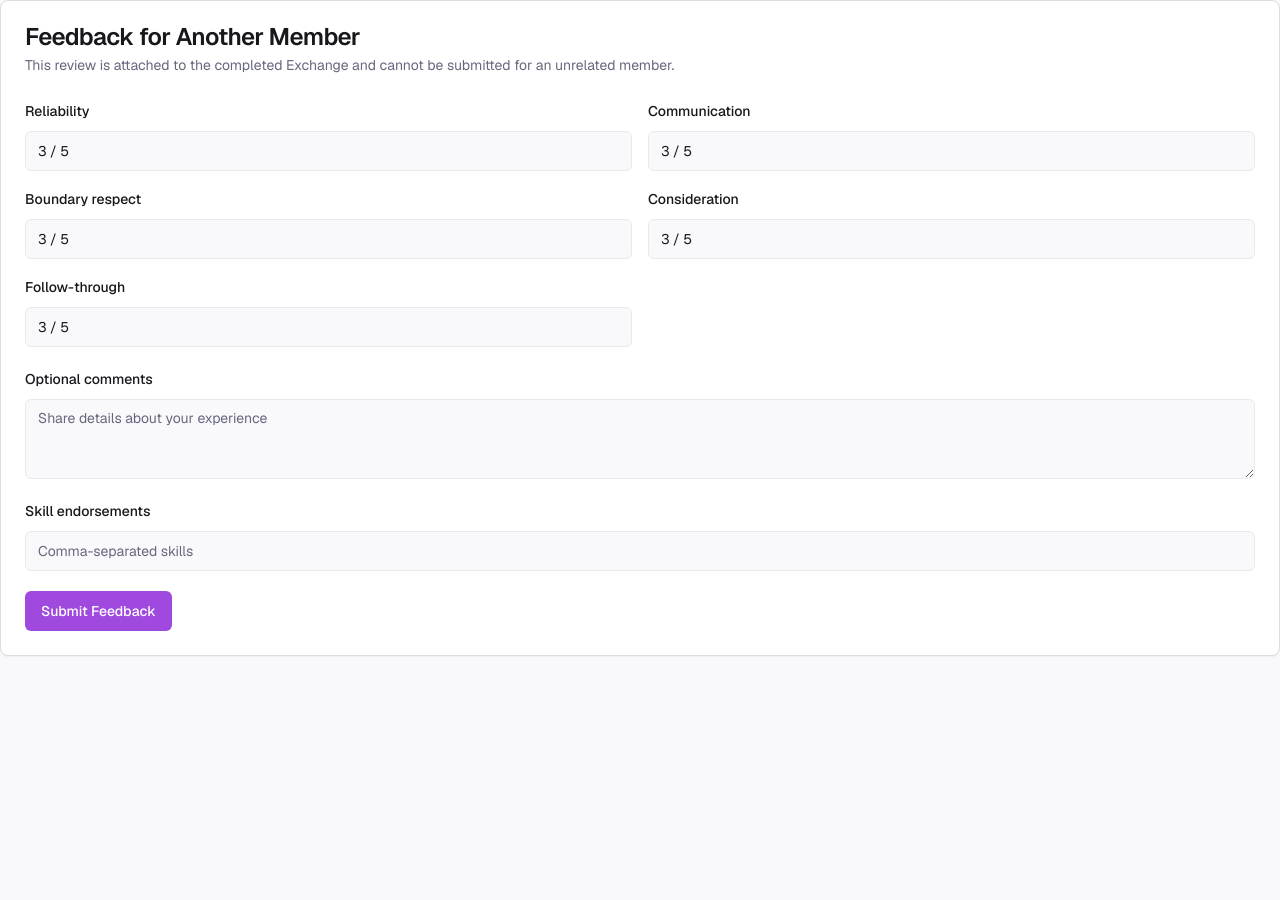
FeedbackForm › restores submission after a network rejection without falsely claiming success
Click the button "Submit Feedback". click: [98, 611]
box: [25,591,172,631]
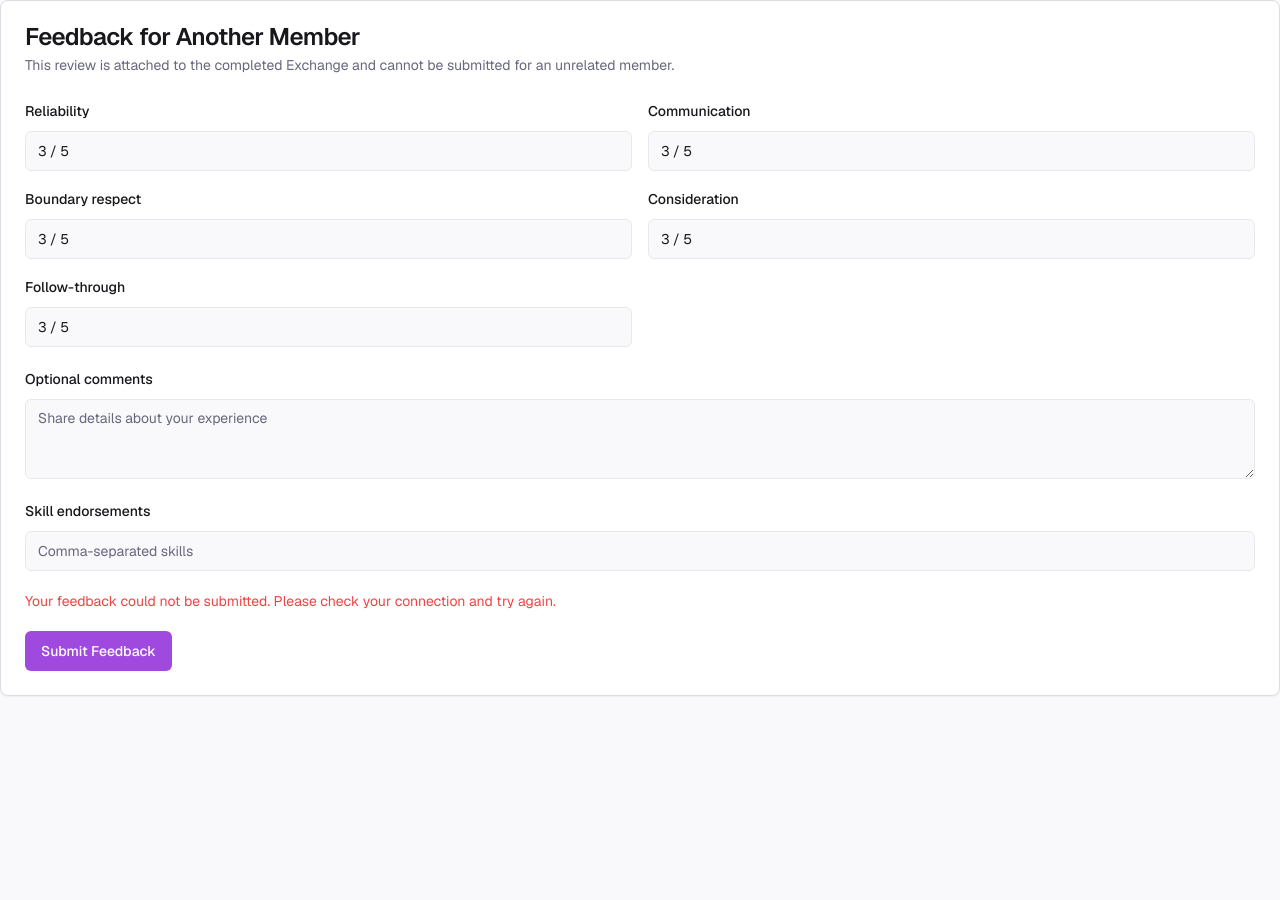
expect the button "Submit Feedback" is enabled: met, box [25,631,172,671]
expect the message shows "Your feedback could not be submitted. Please check your connection and try again.": met, box [25,592,556,610]
